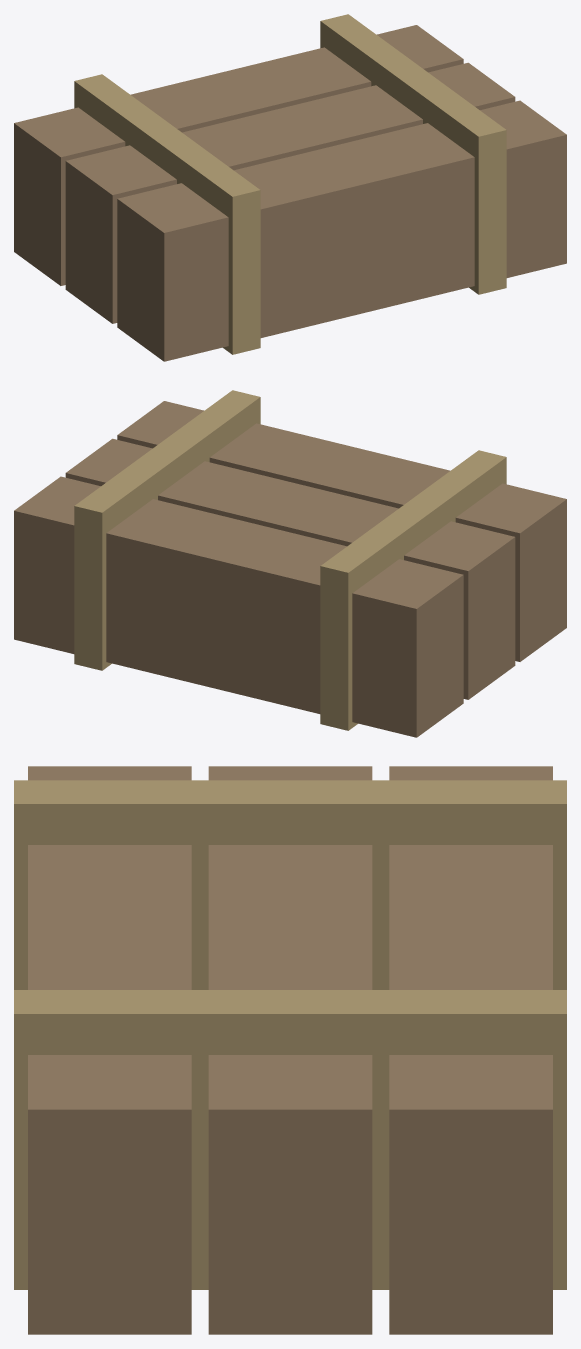
Rendered from Craft_WoodBundle.fbx.
3 views of the same model, one above another, from view 1: azimuth 30°, elevation 25°; view 2: azimuth 150°, elevation 25°; view 3: azimuth 270°, elevation 25° (orthographic). The views are drawn at different scales.
Visible parts, largest first — view 1: Craft_WoodBundle; view 2: Craft_WoodBundle; view 3: Craft_WoodBundle.
Boxes of the visible parts, <box> form: Craft_WoodBundle: <box>14,14,566,361</box>; Craft_WoodBundle: <box>14,390,566,737</box>; Craft_WoodBundle: <box>14,766,566,1334</box>.
Size of the model in its own units: 0.72 by 0.27 by 0.49.
